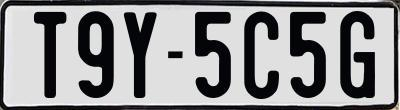5: (192, 12, 233, 99), (287, 12, 327, 98)
9: (76, 11, 117, 101)
C: (241, 8, 282, 96)
G: (337, 11, 373, 102)
T: (31, 11, 65, 97)
Y: (123, 12, 158, 104)
